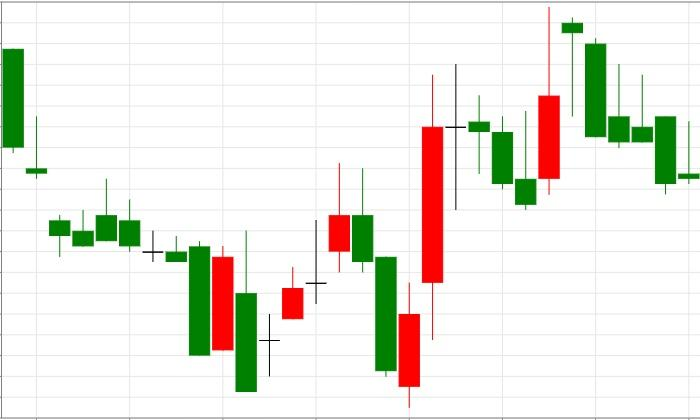inverse_hammer_rise: (445, 64, 536, 210)
